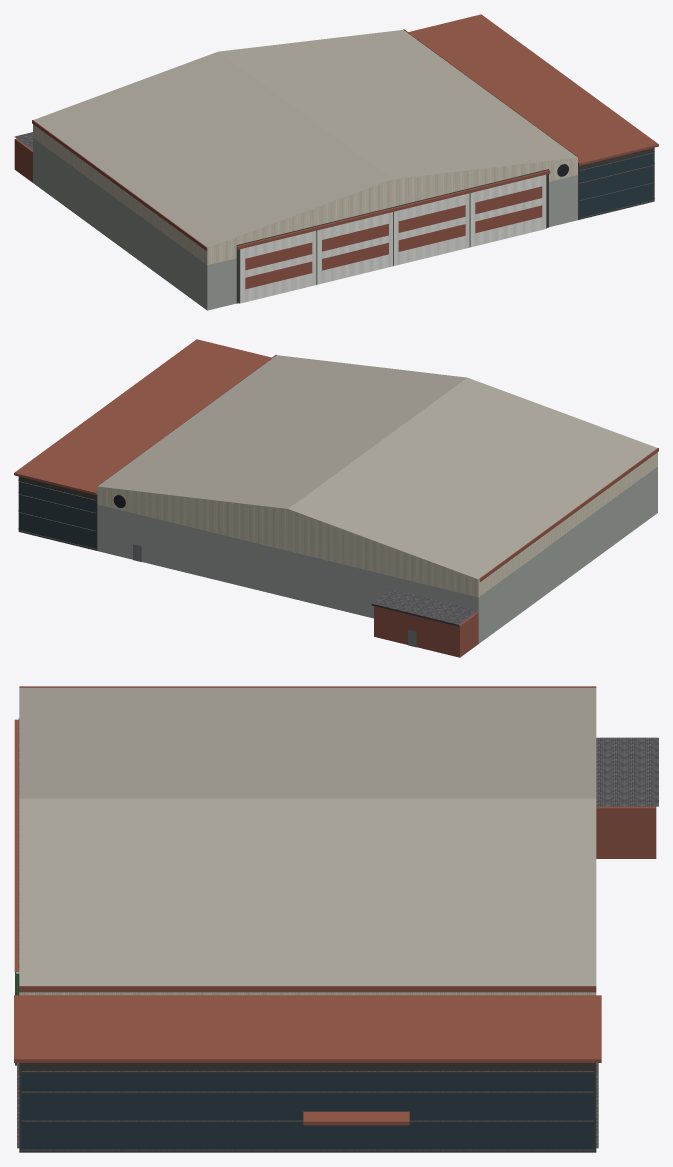
Rendered from cyxd_hangar5_lod1.gltf.
3 views of the same model, one above another, from view 1: azimuth 30°, elevation 25°; view 2: azimuth 150°, elevation 25°; view 3: azimuth 270°, elevation 25° (orthographic). The views are drawn at different scales.
Visible parts, largest first — view 1: cyxd_hangar5; view 2: cyxd_hangar5; view 3: cyxd_hangar5.
Boxes of the visible parts, box(x1,y1,x2,y2) form: cyxd_hangar5: box(14, 14, 658, 310); cyxd_hangar5: box(14, 339, 658, 657); cyxd_hangar5: box(14, 686, 658, 1152).
Size of the model in its own units: 66.02 by 11.8 by 48.4.
